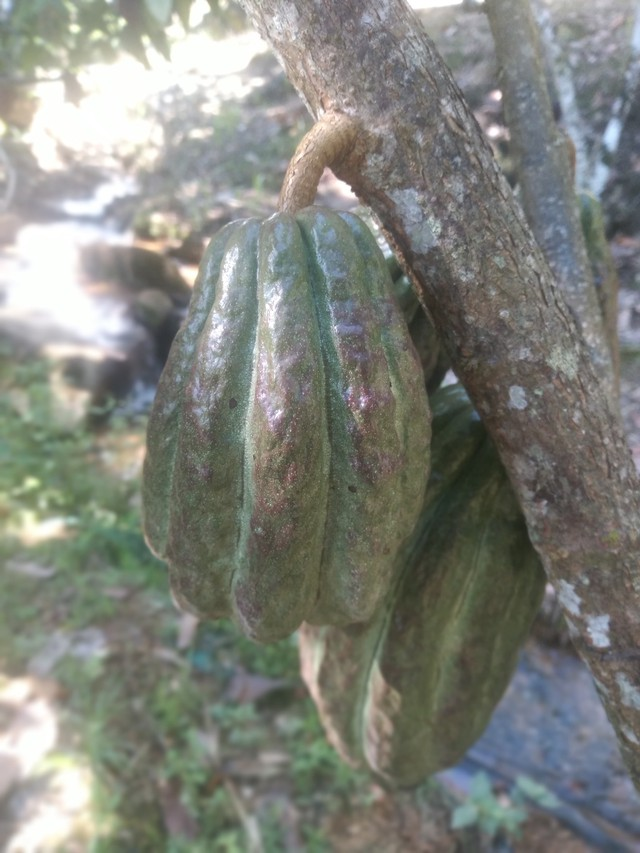Health: (118, 195, 445, 657)
